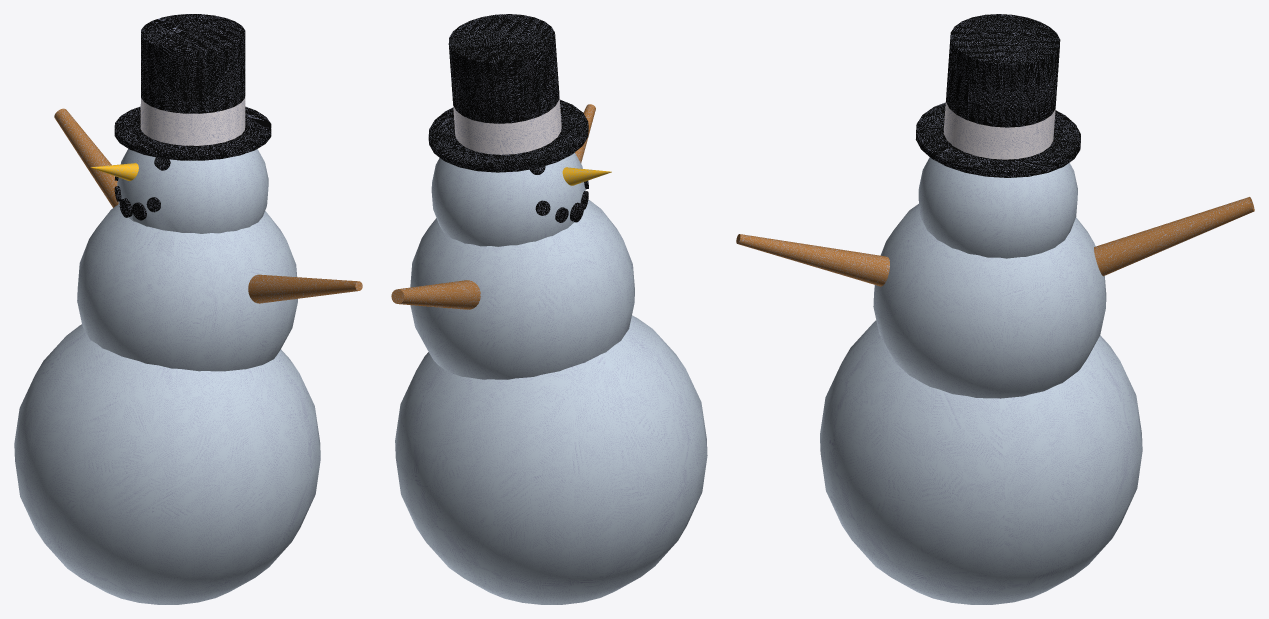
Rendered from snowman.dae.
The picture shows the model from 3 angles, left to right: view 1: azimuth 30°, elevation 25°; view 2: azimuth 150°, elevation 25°; view 3: azimuth 270°, elevation 25°; orthographic projection. The views are drawn at different scales.
Parts seen in each view (by area): view 1: SketchUp (×8); view 2: SketchUp (×7); view 3: SketchUp (×7).
Boxes of the visible parts, x1,y1,x2,y2 form: SketchUp (×8): [14, 14, 362, 604]; SketchUp (×7): [391, 14, 707, 604]; SketchUp (×7): [736, 14, 1254, 604].
Size of what is drawn, in the model's own units: 51.43 by 82.56 by 101.
